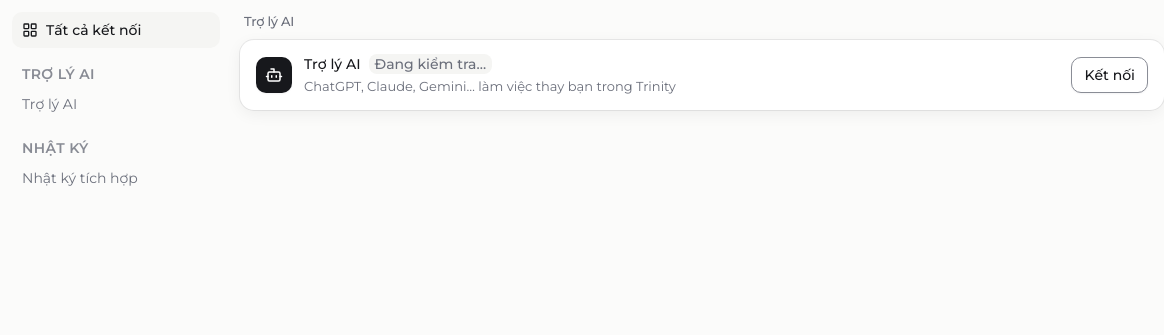
Test: <SettingsIntegrations> — Nhật ký tích hợp › không có dòng nào → trạng thái rỗng
What coordinates should you click on to do the following:
click the button "Nhật ký tích hợp"
I would click on:
 (116, 178)
Its box is [12,160,220,196].
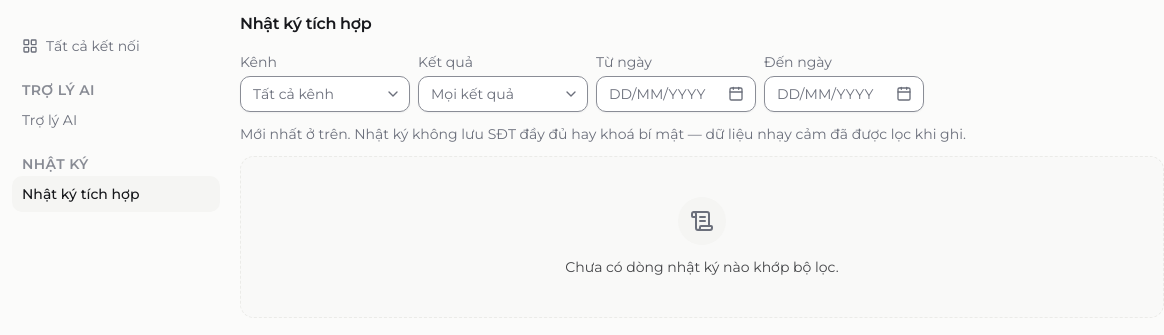
Result: the text "Chưa có dòng nhật ký nào khớp bộ lọc." is shown at [565,257,839,277]
